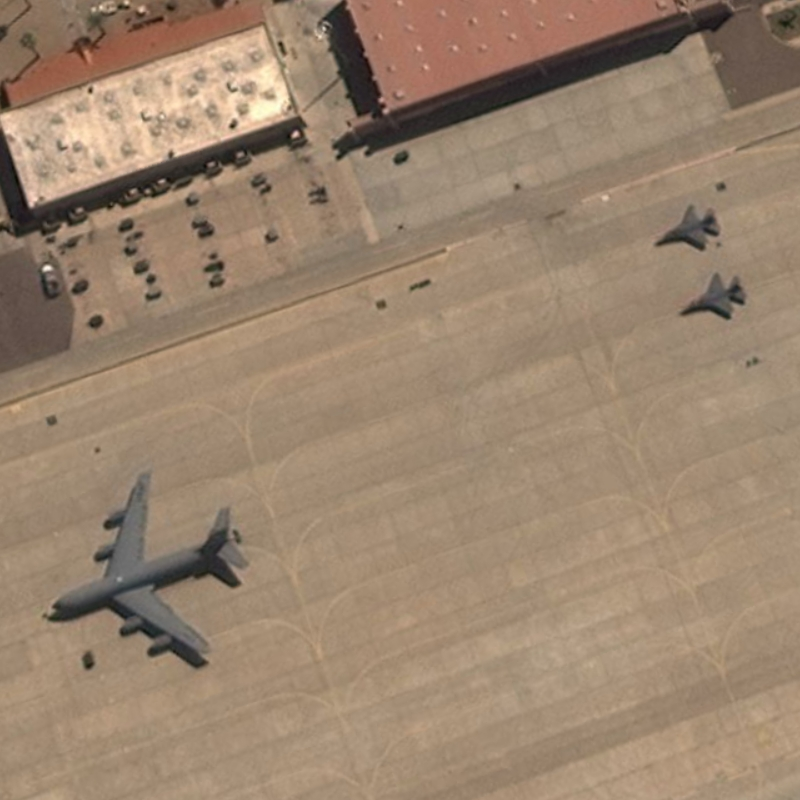A14: (31, 467, 260, 667)
A5: (649, 198, 726, 257), (675, 270, 752, 324)
